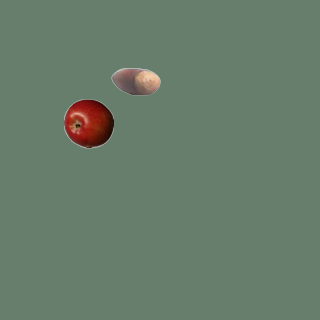Apple Braeburn: (63, 98, 113, 148)
Hazelnut: (110, 56, 160, 106)
